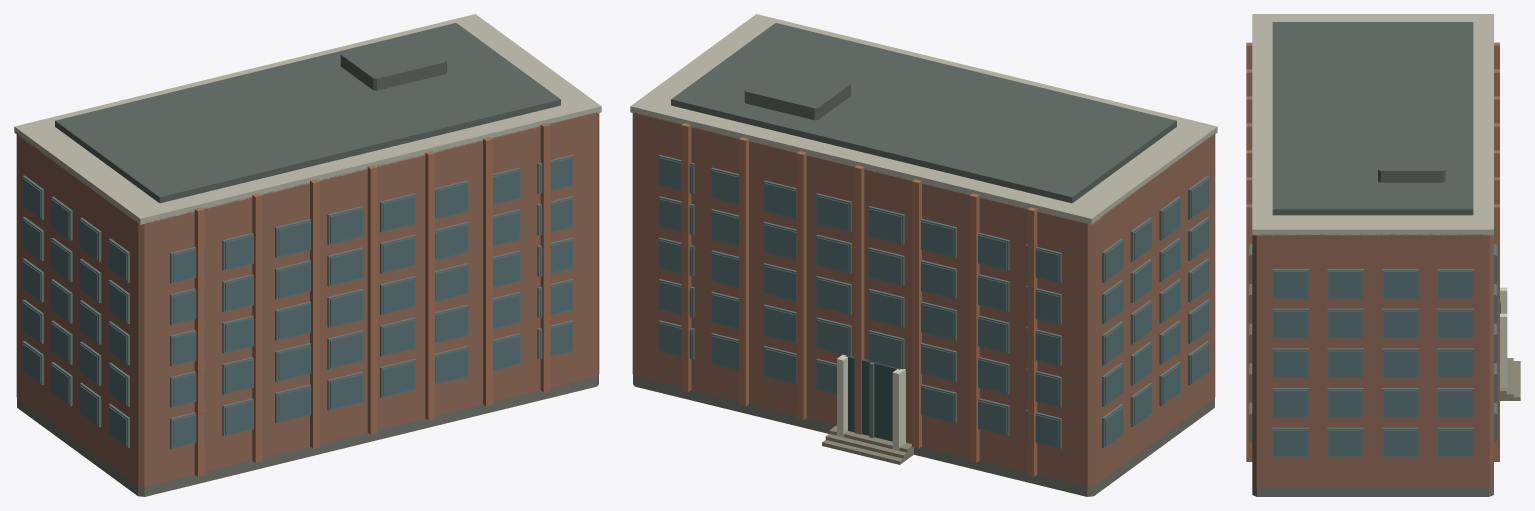
3 views of the same model, side by side, from view 1: azimuth 30°, elevation 25°; view 2: azimuth 150°, elevation 25°; view 3: azimuth 270°, elevation 25° (orthographic). The views are drawn at different scales.
Parts seen in each view (by area): view 1: form, glaze, relief, glowing; view 2: form, glaze, relief, glowing; view 3: form, glaze, relief, glowing.
Boxes of the visible parts, x1=… form: form: x1=14, y1=14, x2=601, y2=496; glaze: x1=22, y1=157, x2=572, y2=447; relief: x1=22, y1=155, x2=573, y2=448; glowing: x1=80, y1=224, x2=467, y2=383; form: x1=630, y1=14, x2=1217, y2=496; glaze: x1=659, y1=157, x2=1209, y2=447; relief: x1=658, y1=155, x2=1209, y2=450; glowing: x1=764, y1=263, x2=1180, y2=421; form: x1=1246, y1=14, x2=1520, y2=496; glaze: x1=1249, y1=245, x2=1497, y2=456; relief: x1=1249, y1=243, x2=1507, y2=457; glowing: x1=1384, y1=351, x2=1416, y2=376.
Size of the model in its own units: 19.25 by 11.71 by 10.23.
